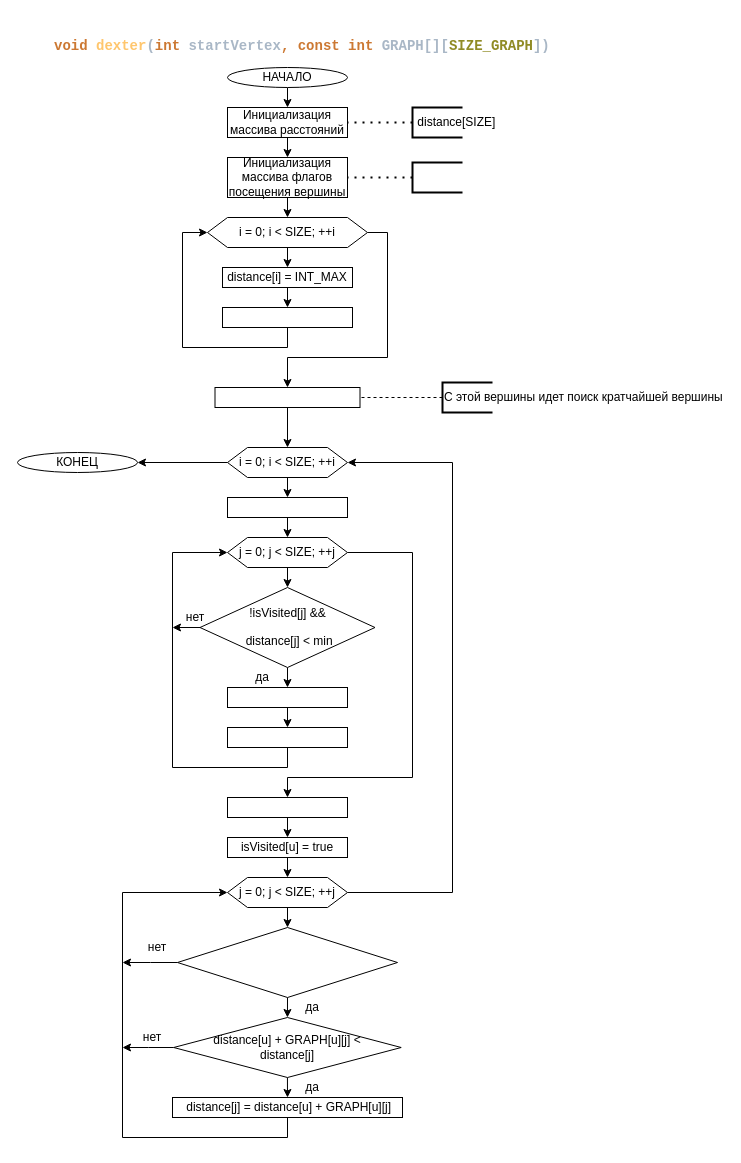
Image size: 741x1163. Some labels were removed from this diagram. The centre of each missing label's shape, as x and y in pixels:
!isVisited[j] && GRAPH[u][j] && distance[u] != INT_MAX: point 287,962
distance[startVertex] = 0: point 287,397
indexMin = j: point 287,737
isVisited[i] = false: point 287,317
isVisited[SIZE]: point 437,177
min = distance[j]: point 287,697
min = INT_MAX: point 287,507
u = indexMin: point 287,807
